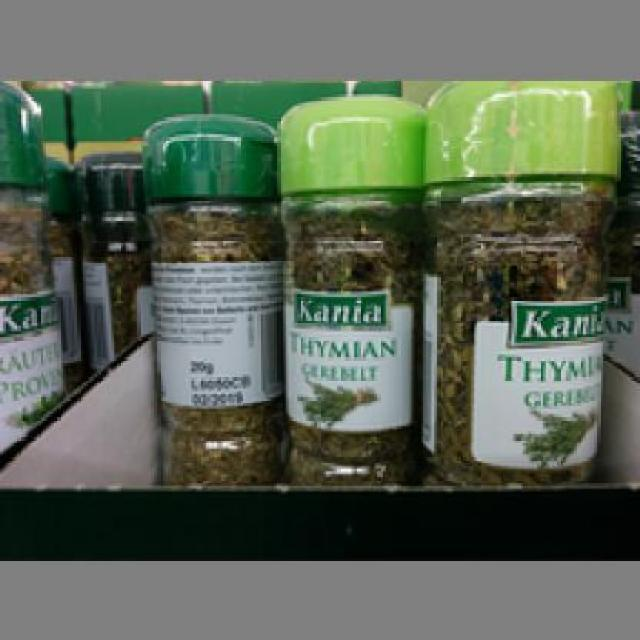Spices: (420, 77, 614, 483), (271, 94, 420, 483), (143, 111, 280, 480)
